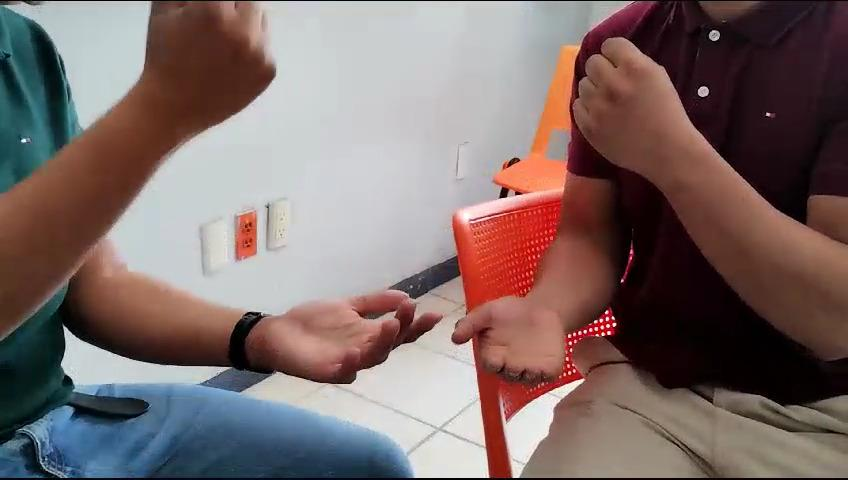Stone: (96, 0, 302, 176), (534, 15, 717, 198)
